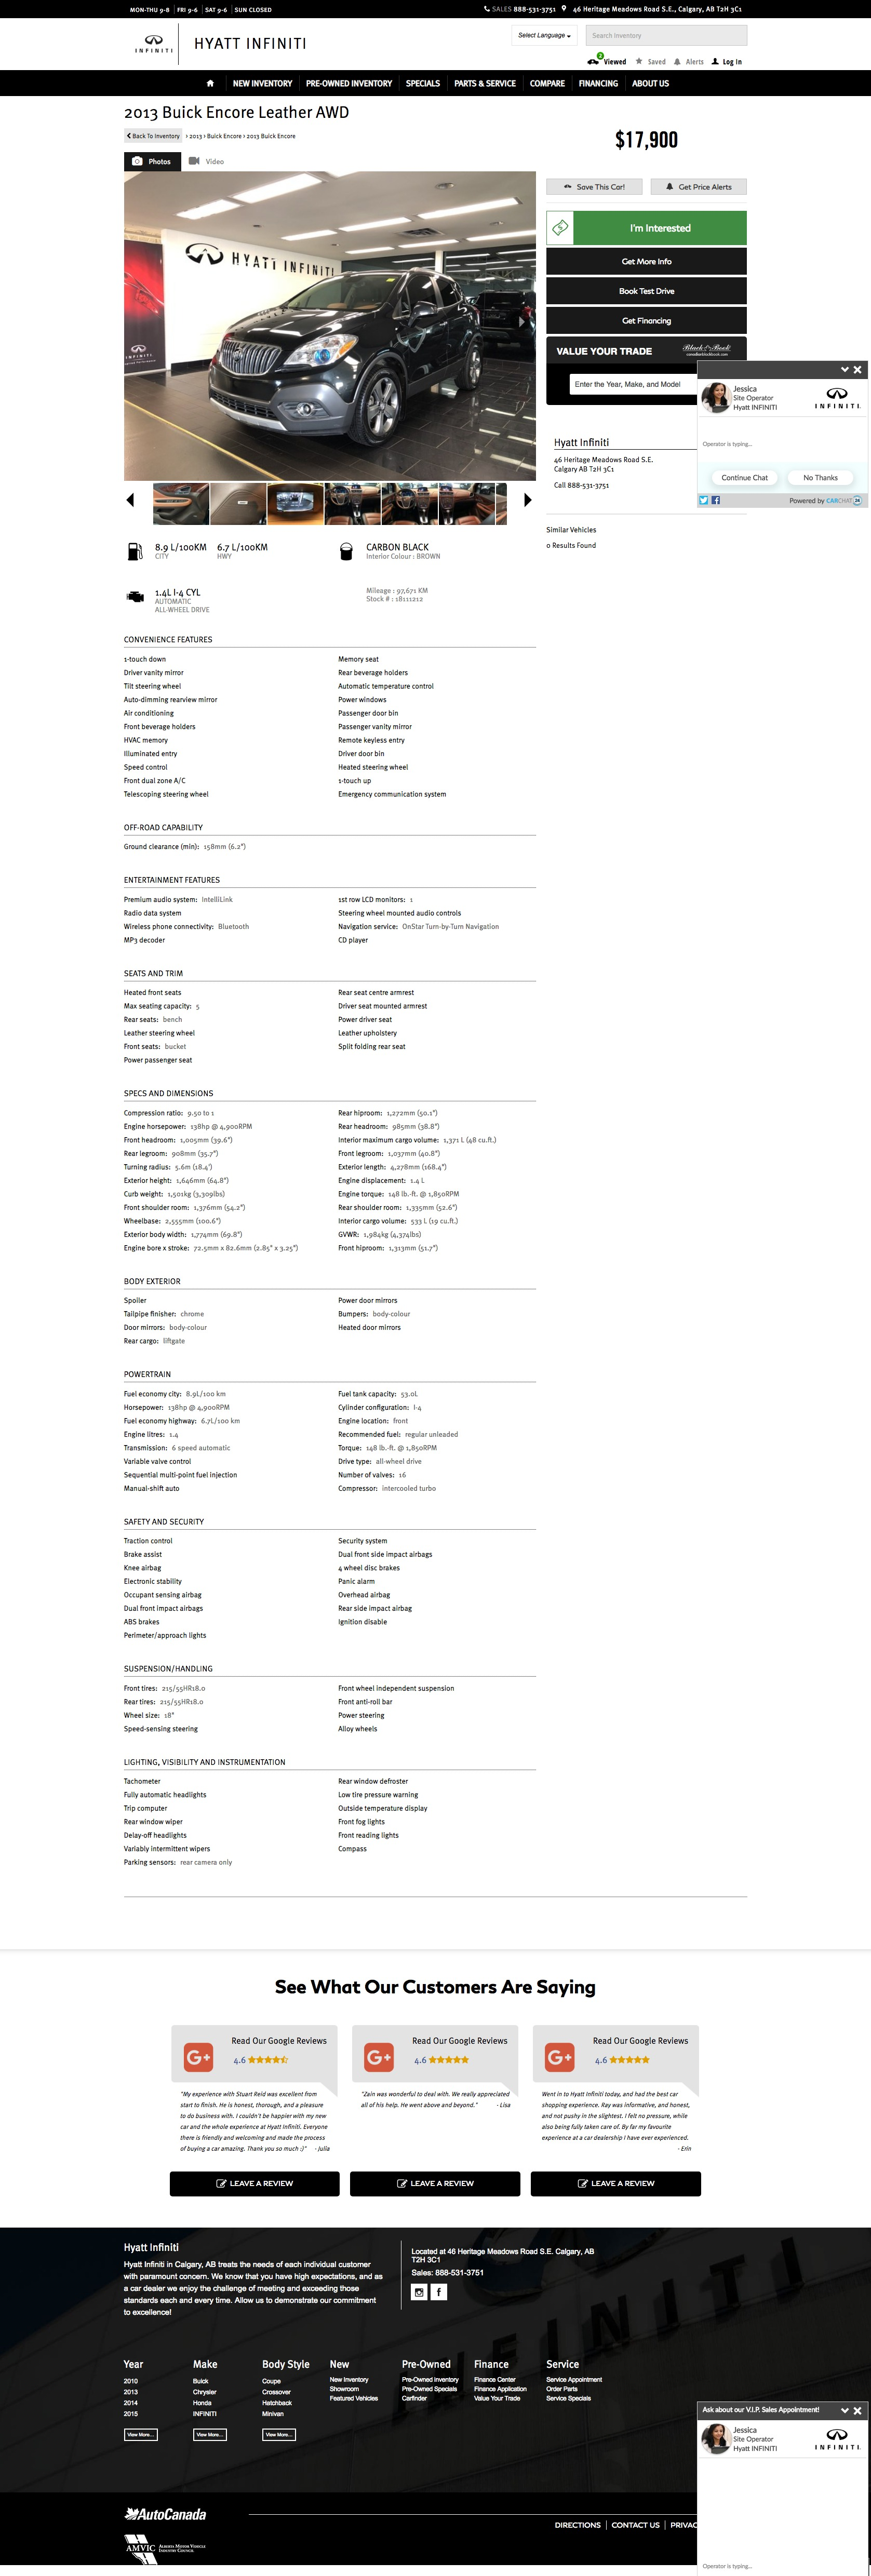car: (524, 493, 532, 508)
